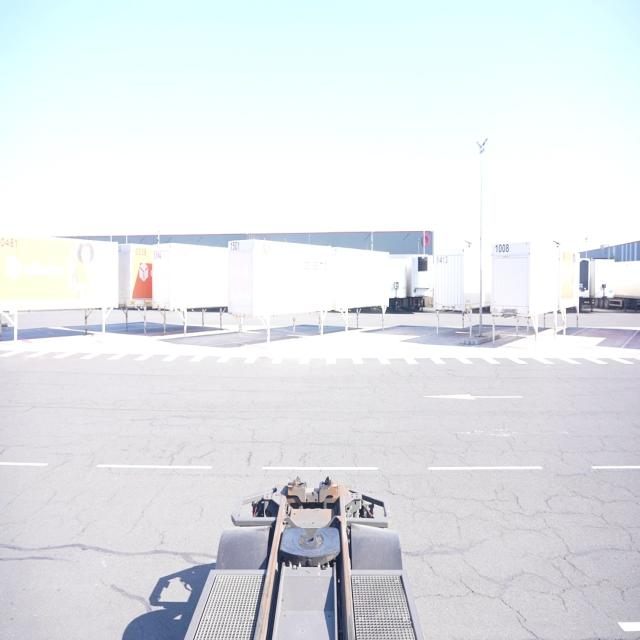Code: (1, 234, 20, 256), (227, 235, 240, 256), (494, 240, 511, 254)
